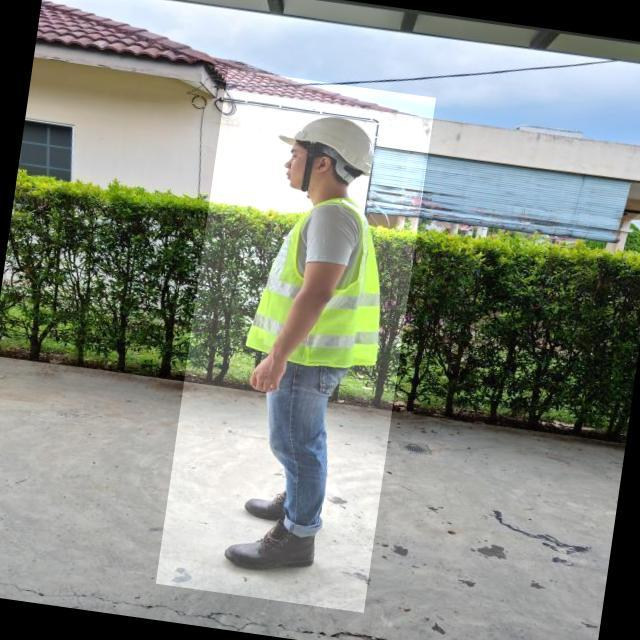Helmet: (273, 108, 385, 181)
Person: (178, 58, 417, 585)
Safety Boot: (221, 512, 321, 578), (236, 483, 301, 527)
Safety Vest: (242, 190, 399, 375)
bare-arms: (234, 342, 300, 406)
